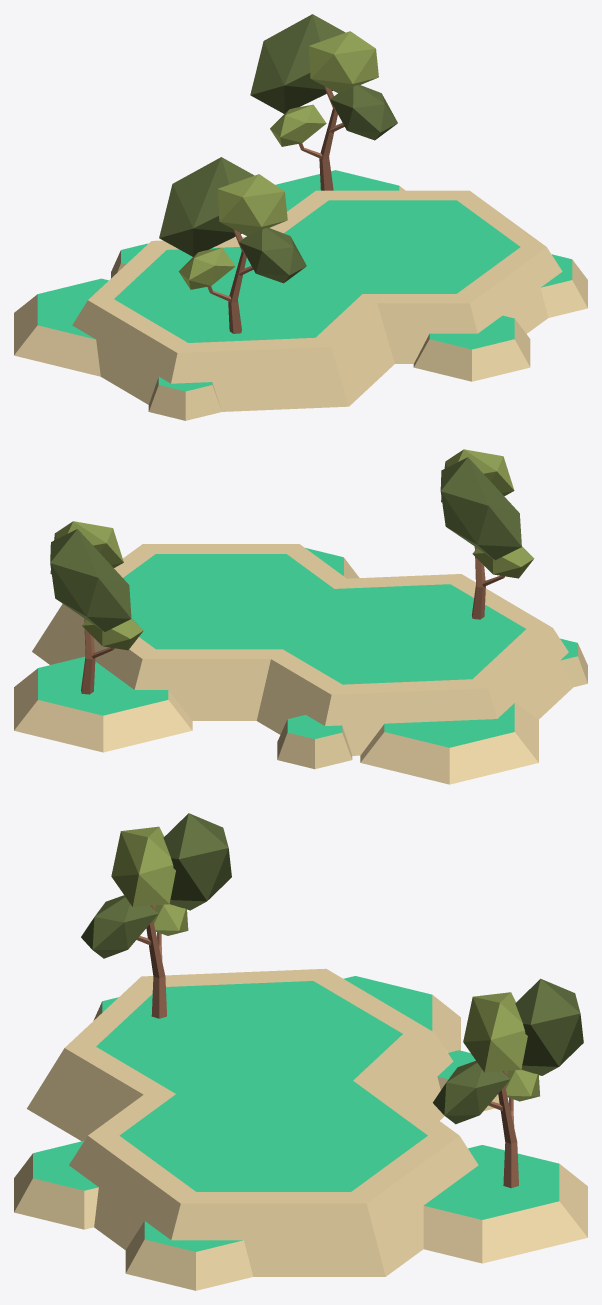
File: hub.glb
The picture shows the model from 3 angles, top to bottom: view 1: azimuth 30°, elevation 25°; view 2: azimuth 150°, elevation 25°; view 3: azimuth 270°, elevation 25°; orthographic projection. The views are drawn at different scales.
Visible parts, largest first — view 1: rockFlatGrass, tree01.002, tree01.001; view 2: rockFlatGrass, tree01.002, tree01.001; view 3: rockFlatGrass, tree01.002, tree01.001.
Part boxes in pixels (x1,y1,x2,y2): rockFlatGrass: [14, 170, 587, 420]; tree01.002: [250, 14, 397, 190]; tree01.001: [159, 157, 306, 333]; rockFlatGrass: [14, 544, 587, 784]; tree01.002: [50, 521, 143, 694]; tree01.001: [440, 449, 534, 619]; rockFlatGrass: [14, 968, 587, 1290]; tree01.002: [433, 978, 583, 1188]; tree01.001: [81, 813, 231, 1018].
Bounding box in the file's own units: 11.9 × 4.82 × 9.64.
3 materials, 1 textured.
